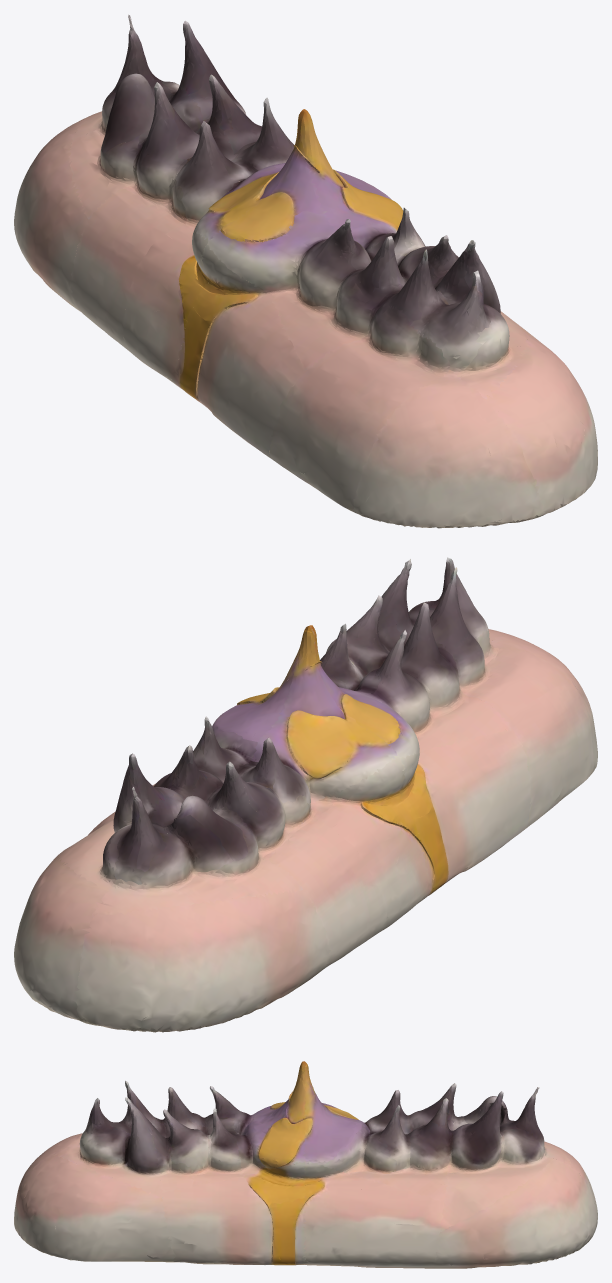
The model's file is 06_3_yellowdot_eclair1_sculpture-opt-v29.glb.
The picture shows the model from 3 angles, top to bottom: view 1: azimuth 30°, elevation 25°; view 2: azimuth 150°, elevation 25°; view 3: azimuth 270°, elevation 25°; orthographic projection. The views are drawn at different scales.
Parts seen in each view (by area): view 1: exlair1.001; view 2: exlair1.001; view 3: exlair1.001.
Boxes of the visible parts, x1,y1,x2,y2 form: exlair1.001: (14, 14, 597, 528); exlair1.001: (14, 557, 597, 1032); exlair1.001: (14, 1061, 597, 1268).
Bounding box in the file's own units: 0.0445 × 0.0389 × 0.125.
1 material, 1 textured.
